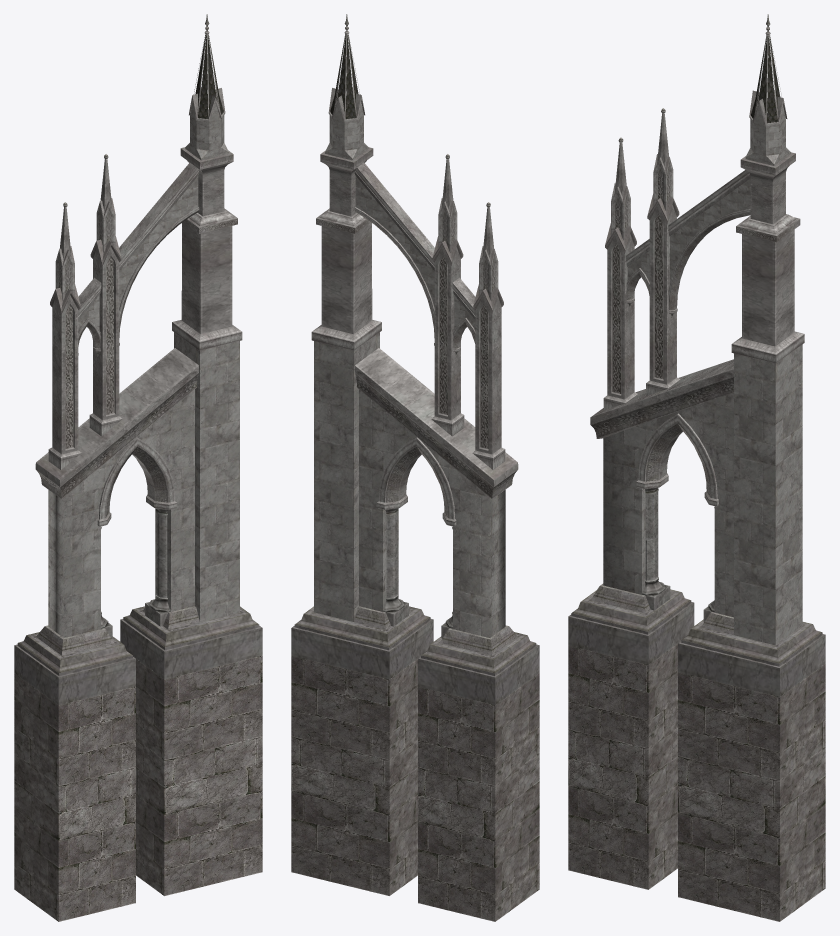
File: eso_ss15_buildingspires1-transformed.glb
3 views of the same model, side by side, from view 1: azimuth 30°, elevation 25°; view 2: azimuth 150°, elevation 25°; view 3: azimuth 330°, elevation 25° (orthographic). The views are drawn at different scales.
Parts seen in each view (by area): view 1: default; view 2: default; view 3: default.
Boxes of the visible parts, x1,y1,x2,y2 form: default: (14, 14, 262, 921); default: (291, 14, 539, 921); default: (568, 14, 825, 921).
Bounding box in the file's own units: 11.07 × 44.14 × 4.16.
Materials: 6 (6 with a texture image).
